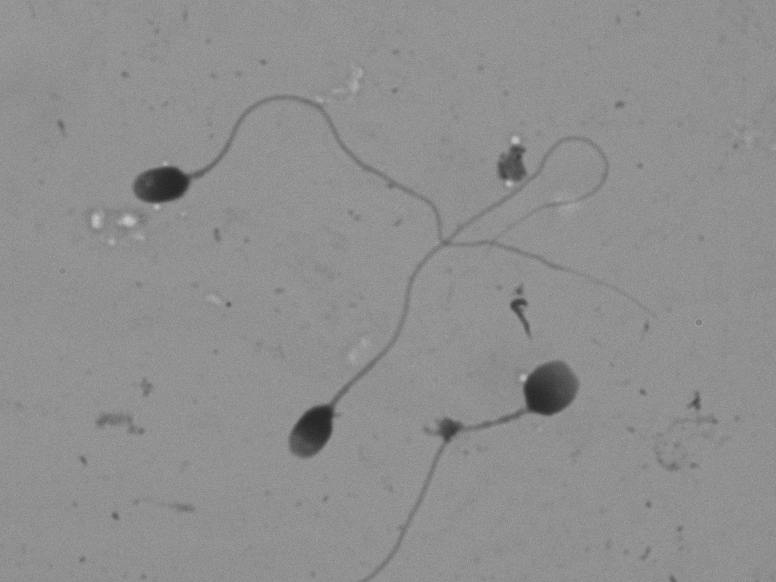Abnormal: (371, 345, 660, 563)
Normal: (92, 61, 682, 315), (256, 71, 423, 475)
